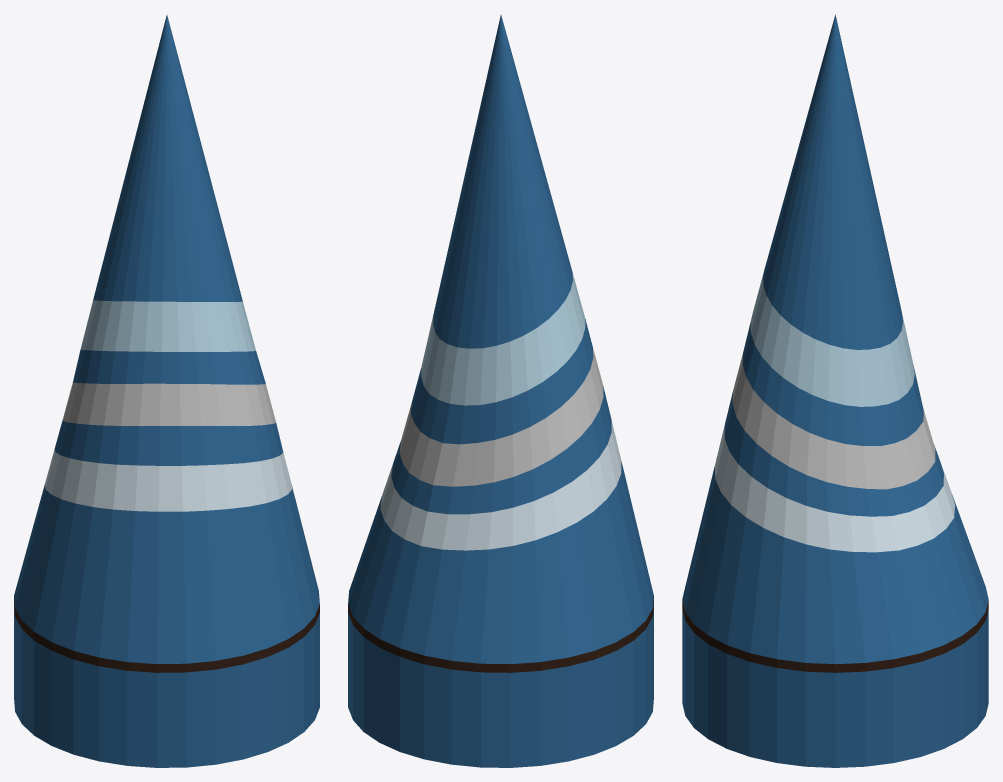
Rendered from Ice Cream Cone Vanilla.fbx.
The picture shows the model from 3 angles, left to right: view 1: azimuth 30°, elevation 25°; view 2: azimuth 150°, elevation 25°; view 3: azimuth 270°, elevation 25°; orthographic projection.
Visible parts, largest first — view 1: Ice Cream Cone Vanilla; view 2: Ice Cream Cone Vanilla; view 3: Ice Cream Cone Vanilla.
Boxes of the visible parts, x1,y1,x2,y2 form: Ice Cream Cone Vanilla: (14,15,319,767); Ice Cream Cone Vanilla: (348,15,653,767); Ice Cream Cone Vanilla: (682,14,988,767).
Size of the model in its own units: 14.28 by 35.84 by 14.28.
1 material, 1 textured.
